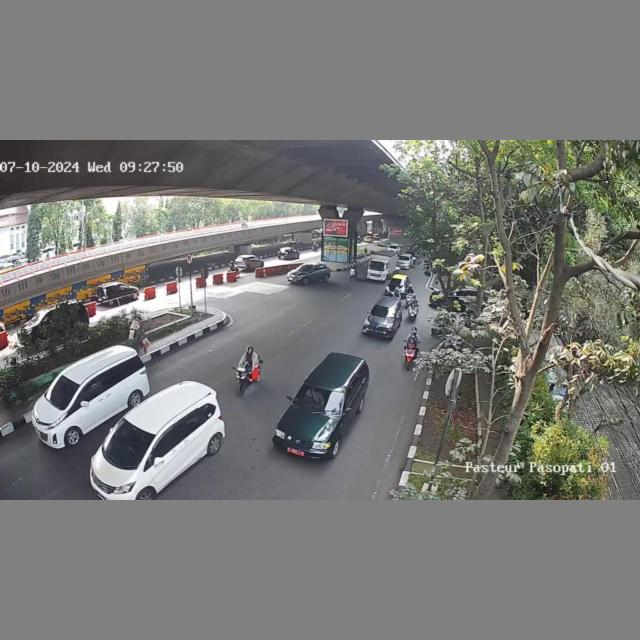windshield: (101, 417, 157, 465), (294, 381, 345, 415), (44, 374, 83, 403), (369, 304, 397, 318)
